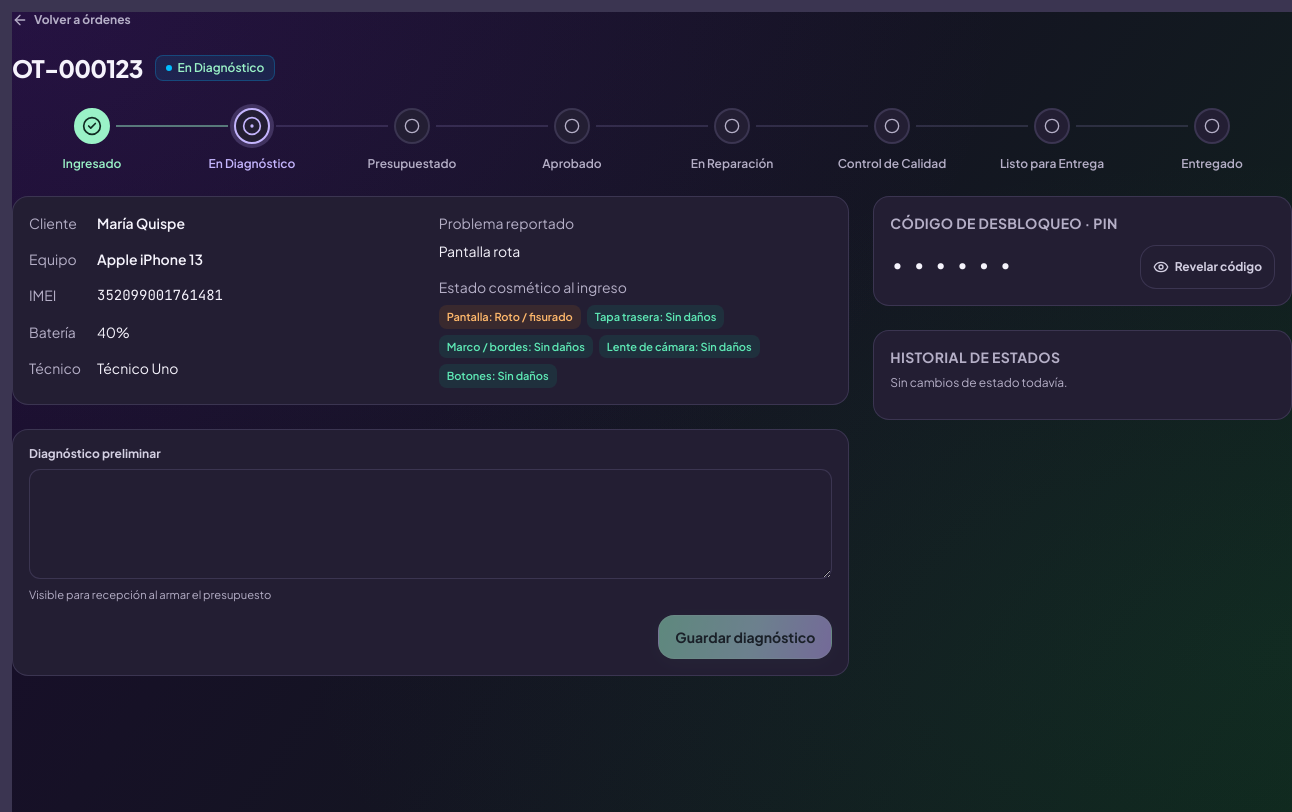
Test: WorkOrderDetailPage › lets the assigned technician save the diagnosis [004/RF-7.1]
The width and height of the screenshot is (1292, 812).
Type "Pan" into the text box labelled "Diagnóstico preliminar" at (431, 524), box [29,469,832,579]
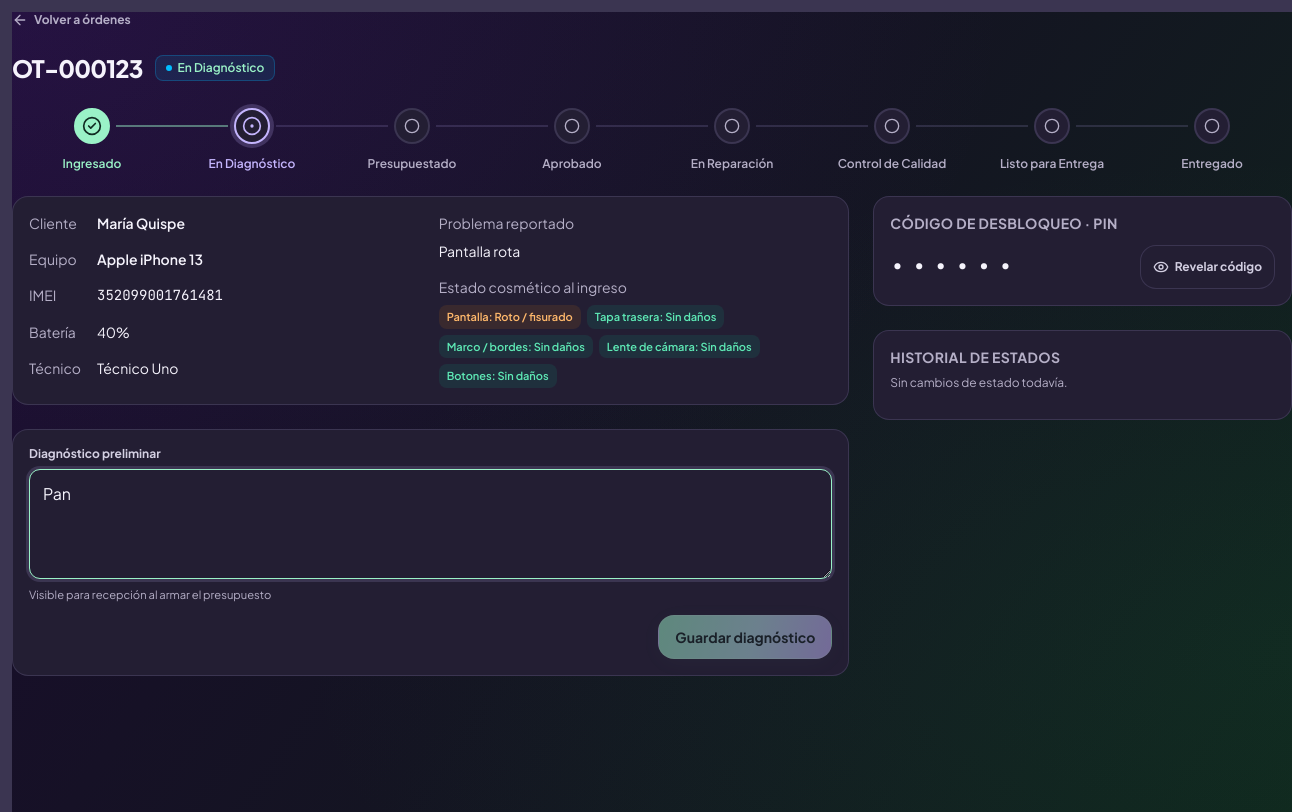
Expected: the button "Guardar diagnóstico" is disabled, [658,615,832,659]
Type "talla con flex roto  " into the text box labelled "Diagnóstico preliminar" at (431, 524), box [29,469,832,579]
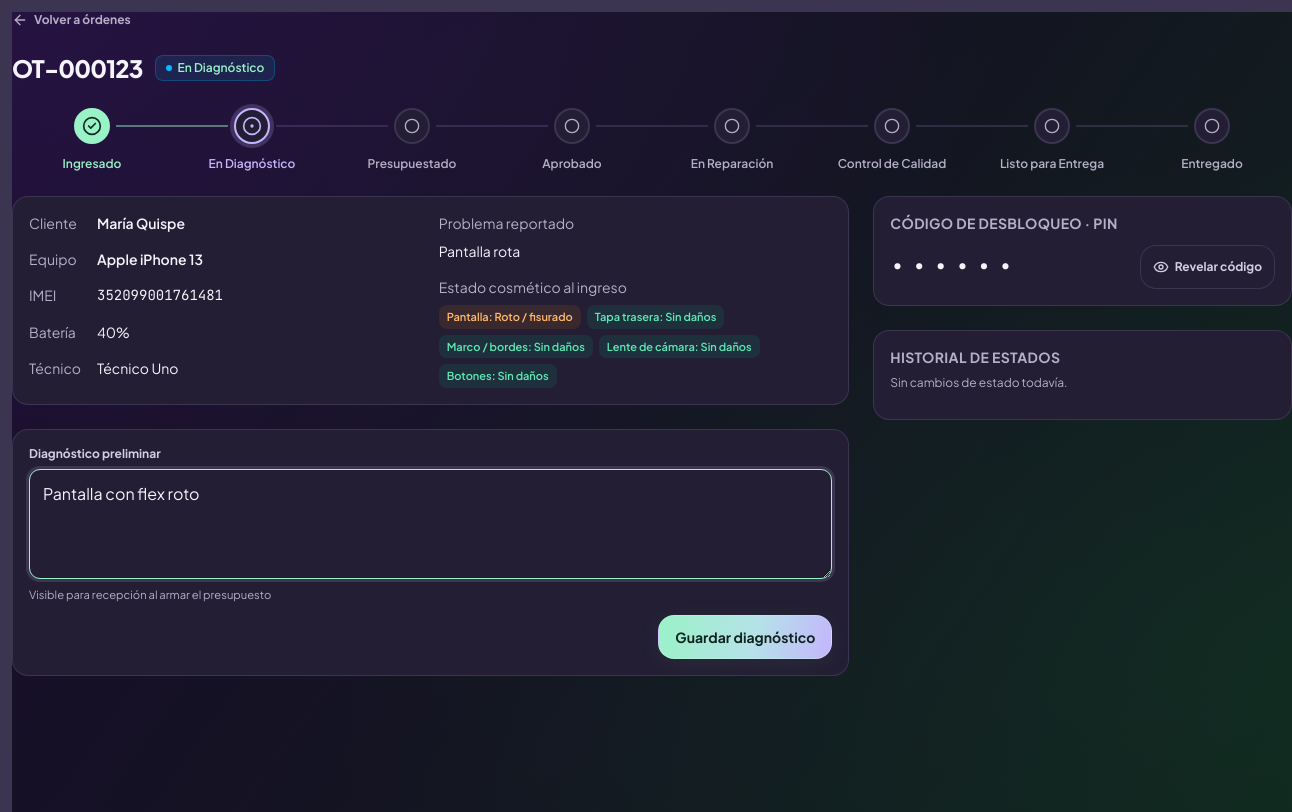
Click the button "Guardar diagnóstico" at (745, 637), box [658,615,832,659]
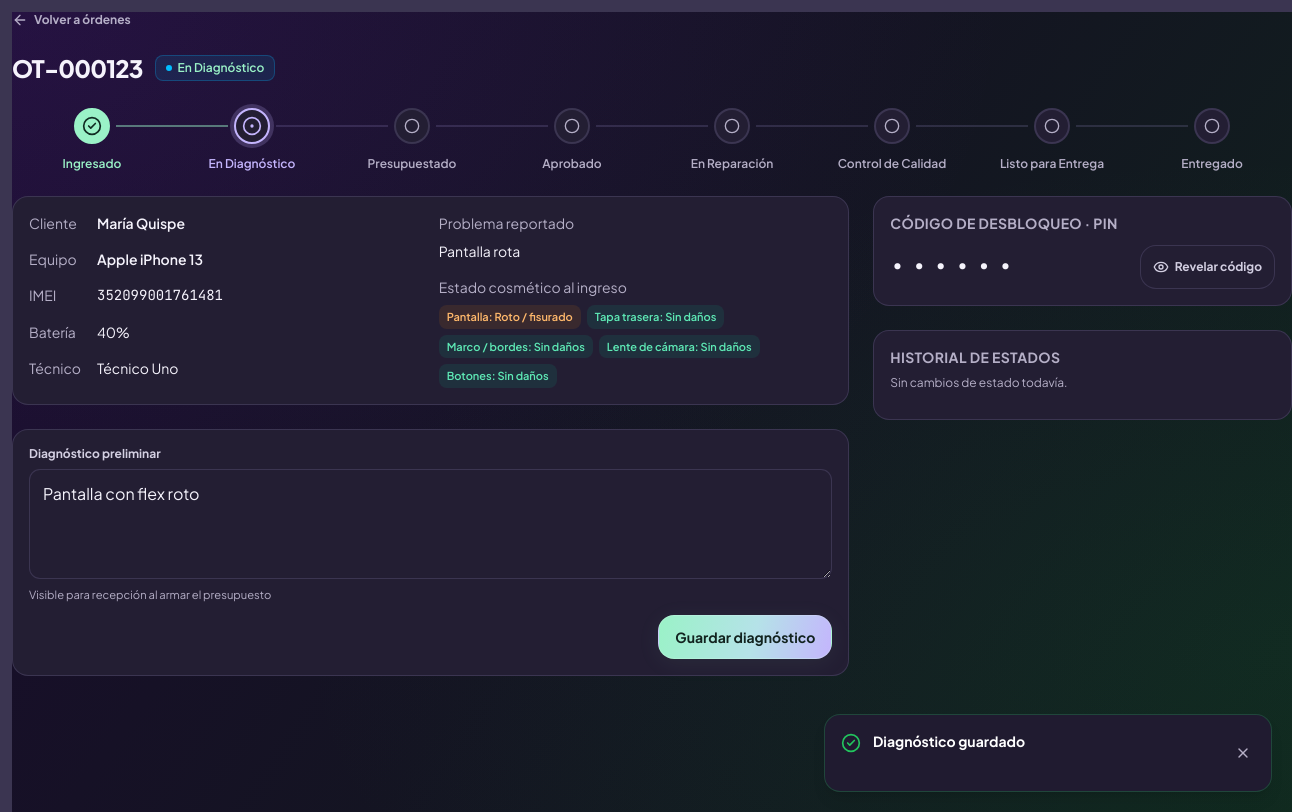
Expected: the heading "Diagnóstico guardado" is shown, [873,731,1025,751]
